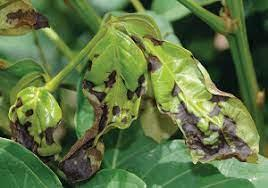Bok-Choy-Diseased: (162, 81, 248, 158), (90, 34, 150, 123)
